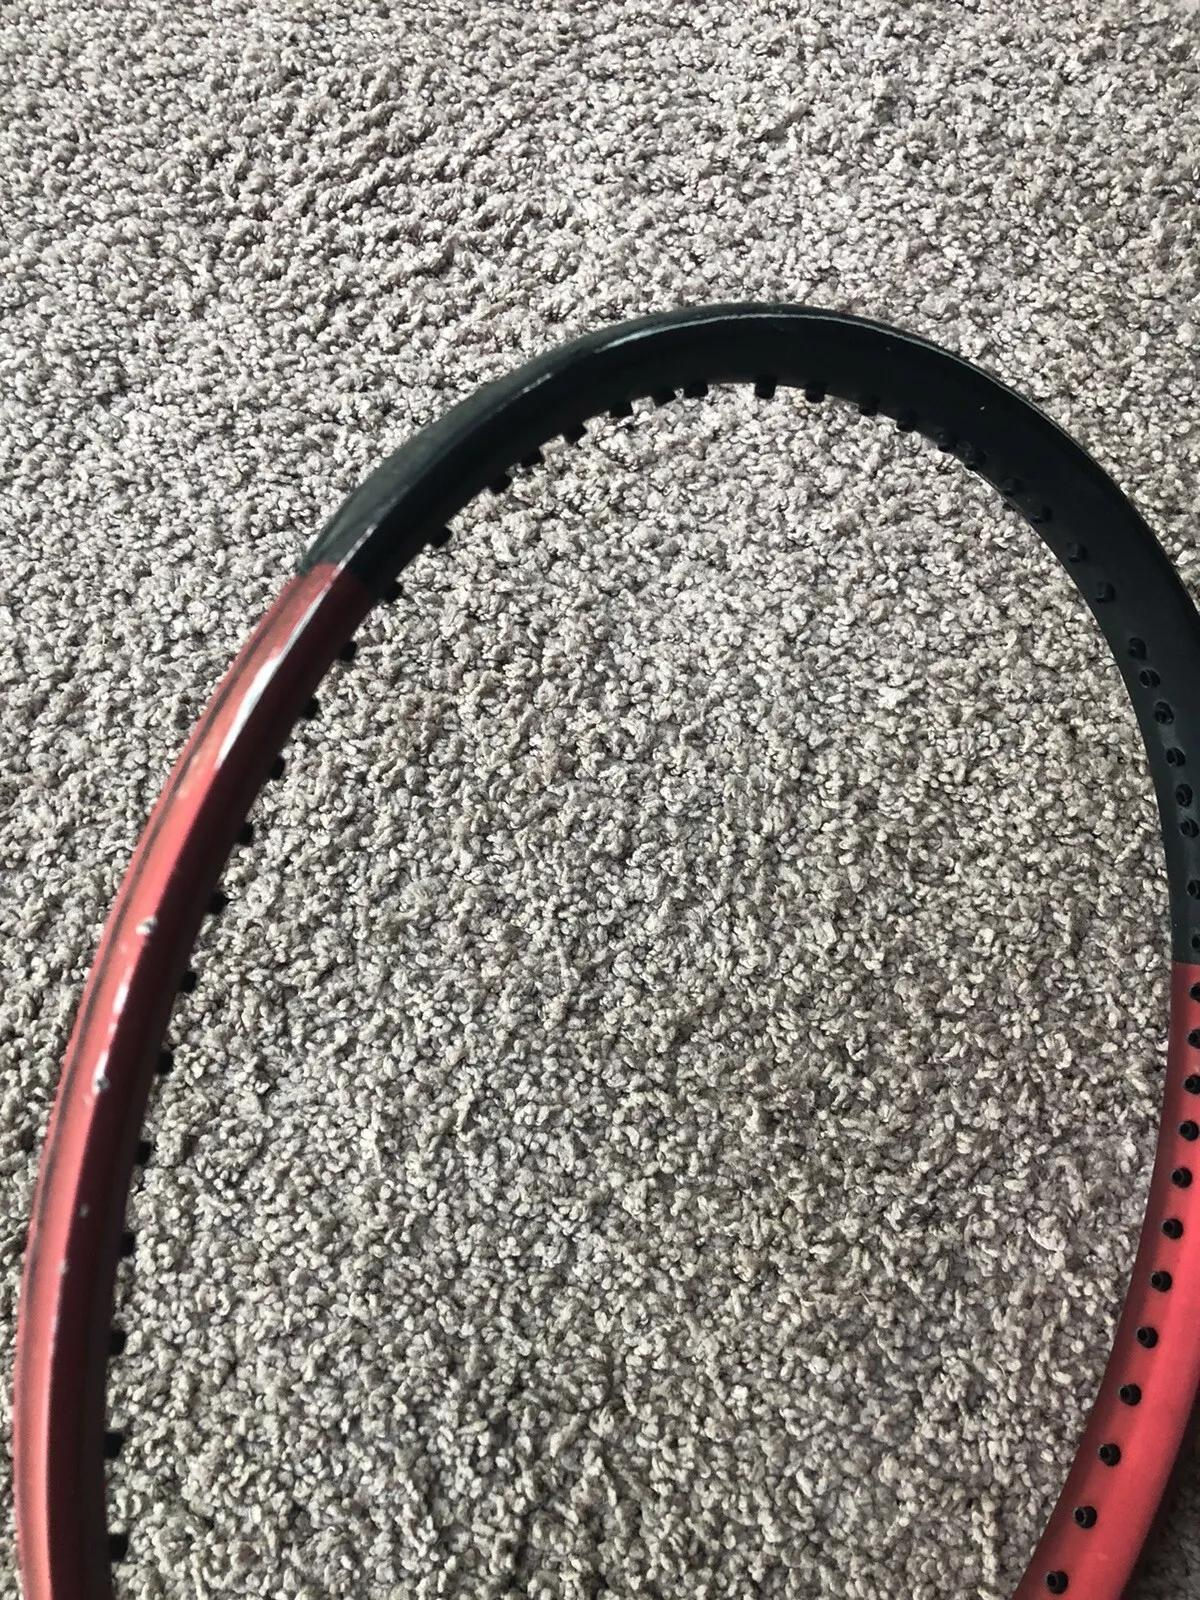Tennis-Racket: (13, 306, 1200, 1597)
